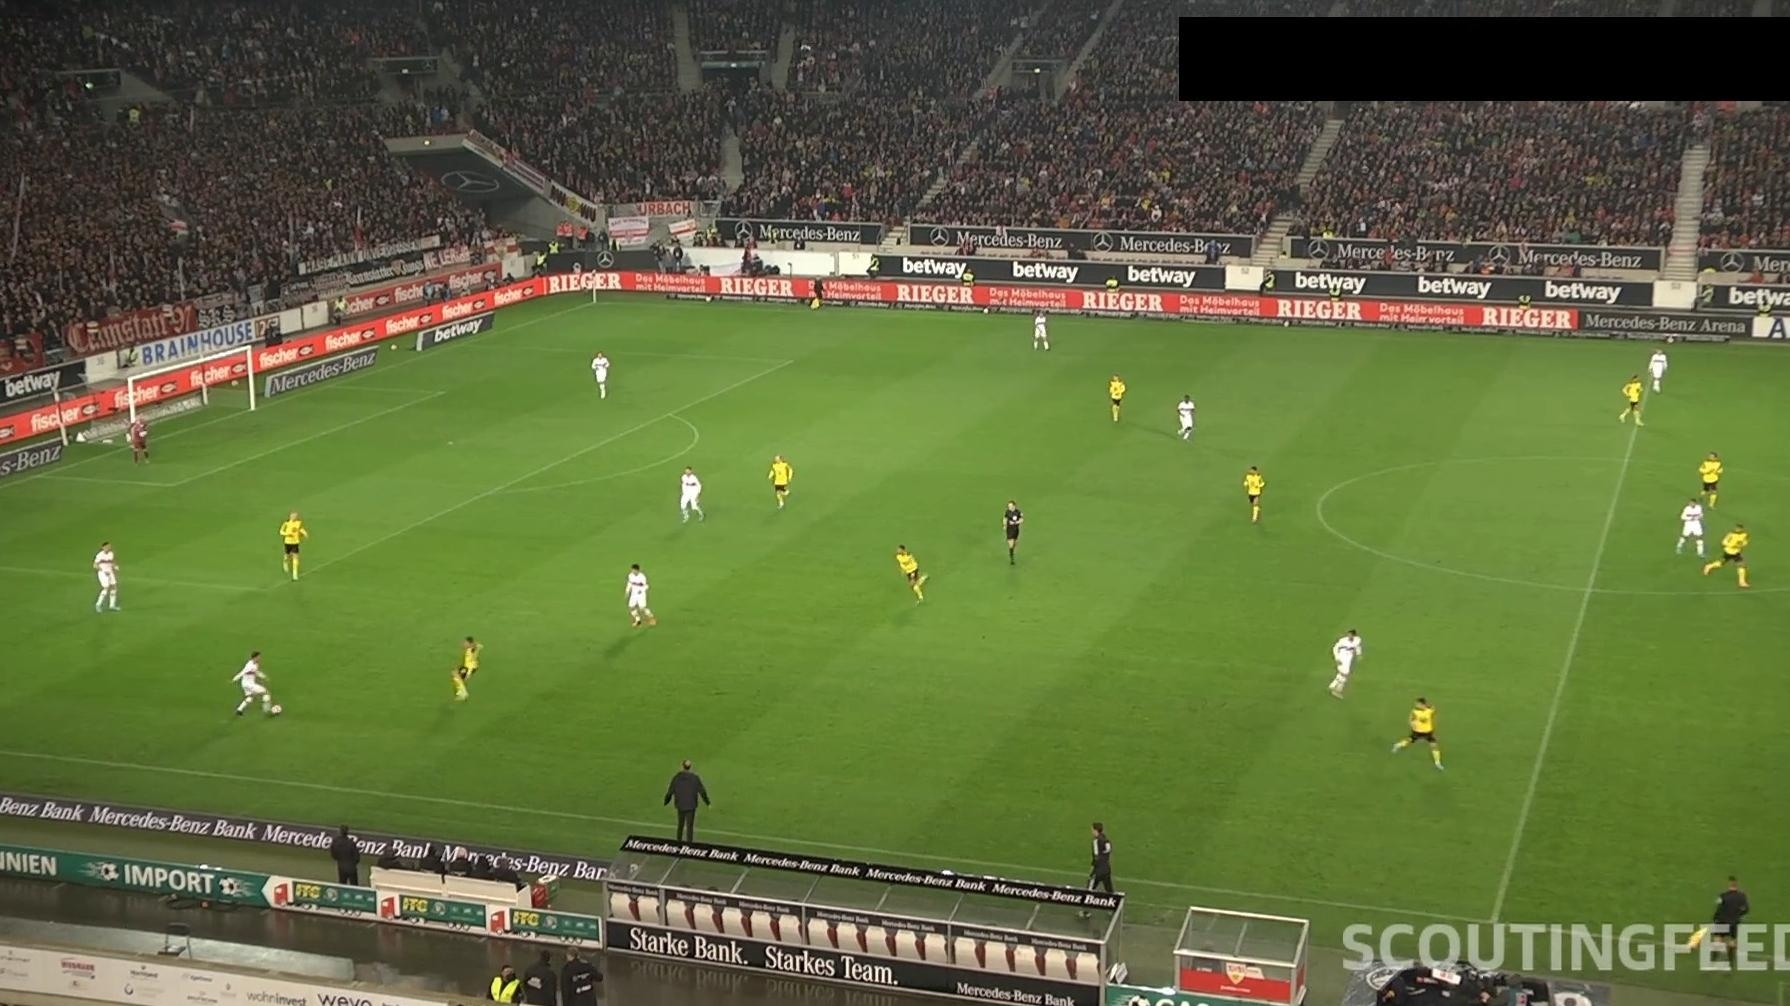ball: (270, 703, 283, 716)
